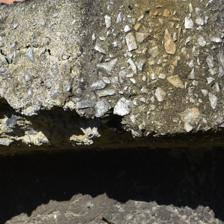Crack: (38, 21, 110, 54), (119, 62, 170, 87)
